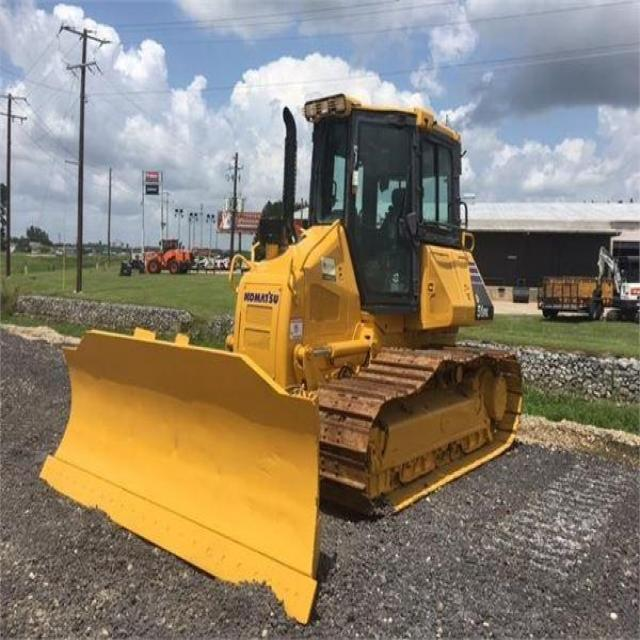Bulldozer: (49, 68, 533, 616)
